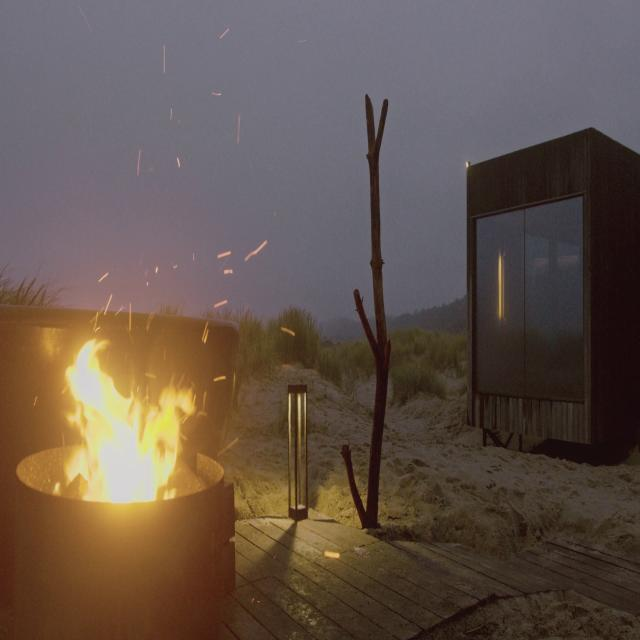Fire: (40, 322, 200, 502)
